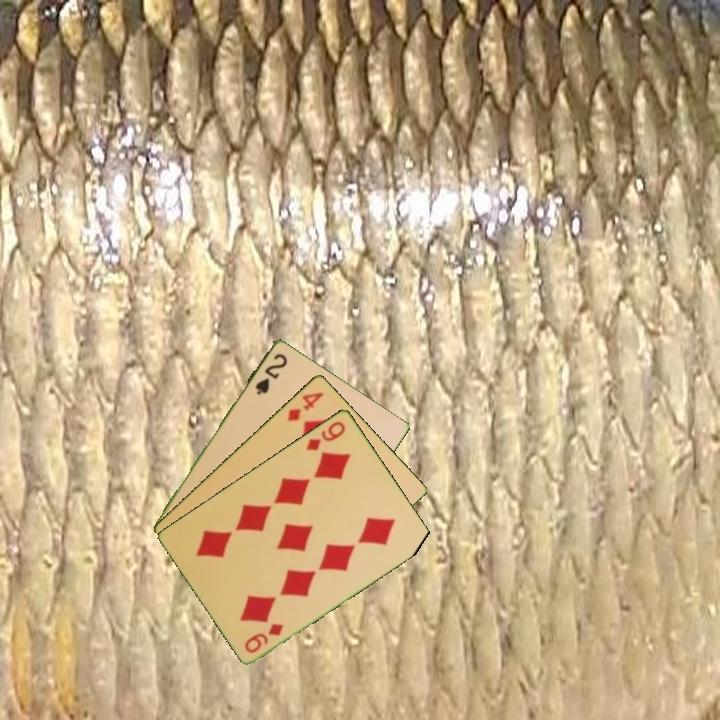2s: (252, 349, 290, 398)
4d: (284, 388, 327, 424)
9d: (241, 619, 287, 656), (302, 417, 349, 453)
